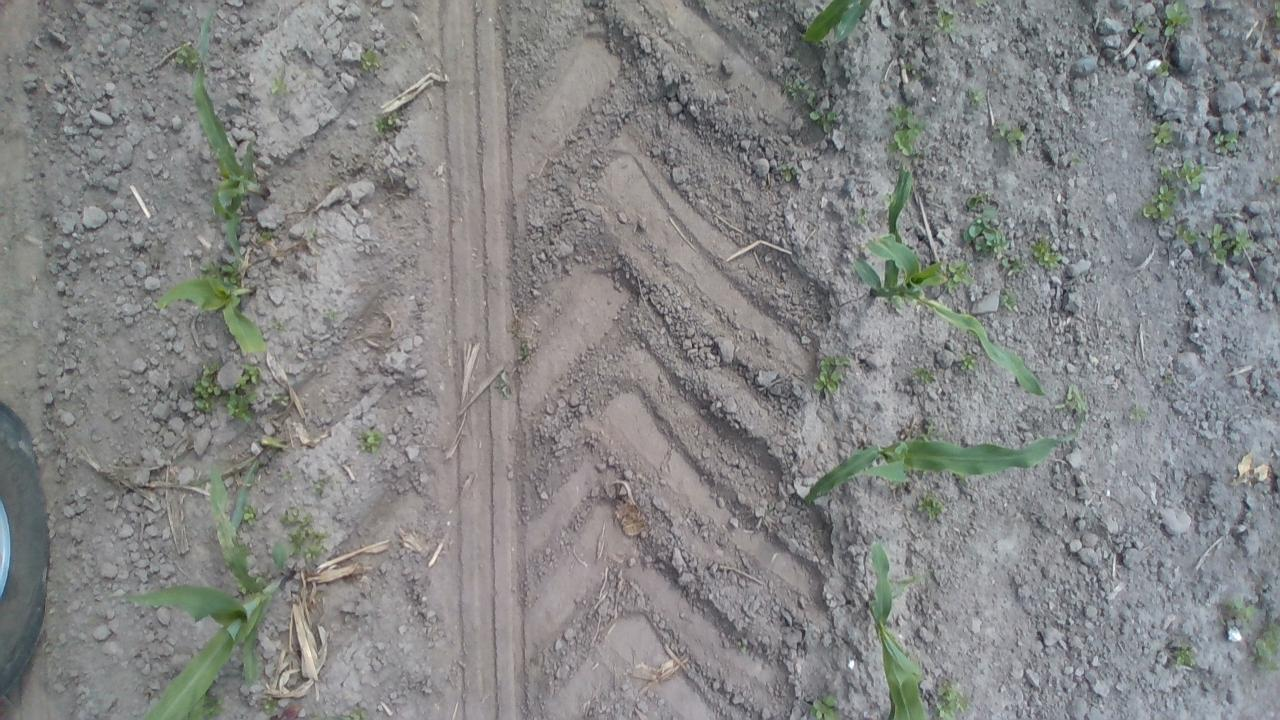Maize: (118, 442, 296, 720), (850, 162, 1050, 402), (797, 396, 1086, 507), (184, 5, 274, 256), (854, 535, 938, 720), (154, 253, 276, 368), (798, 1, 876, 51)
Weeds: (188, 357, 262, 422), (962, 192, 1012, 257), (279, 510, 330, 567), (885, 102, 927, 159), (810, 350, 851, 403), (930, 674, 973, 718), (1140, 180, 1184, 222), (1250, 616, 1280, 674), (1154, 160, 1208, 189), (1160, 0, 1196, 43), (913, 488, 950, 528), (1198, 222, 1231, 266), (1026, 234, 1064, 272), (991, 120, 1026, 160), (808, 101, 841, 141), (370, 110, 407, 142), (1229, 223, 1260, 260), (944, 258, 974, 296), (1222, 596, 1253, 630), (782, 74, 816, 105), (1146, 119, 1176, 154), (496, 368, 522, 408), (357, 426, 391, 455), (808, 691, 841, 720), (932, 3, 961, 36), (352, 44, 382, 74), (172, 42, 204, 69), (1172, 644, 1200, 674), (993, 284, 1019, 316), (908, 362, 937, 389), (998, 250, 1028, 276), (951, 350, 980, 376), (1208, 130, 1238, 155), (238, 504, 264, 532), (268, 66, 290, 98), (336, 700, 370, 720), (962, 85, 984, 115), (776, 160, 802, 185), (1124, 398, 1148, 425), (1148, 57, 1172, 84), (1128, 18, 1156, 40), (270, 316, 295, 338), (270, 391, 296, 412), (309, 474, 330, 496), (1174, 224, 1196, 244), (318, 308, 342, 326), (518, 341, 536, 364), (259, 698, 283, 714), (306, 224, 323, 244), (852, 210, 873, 226), (736, 636, 751, 654), (1269, 2, 1280, 26)
